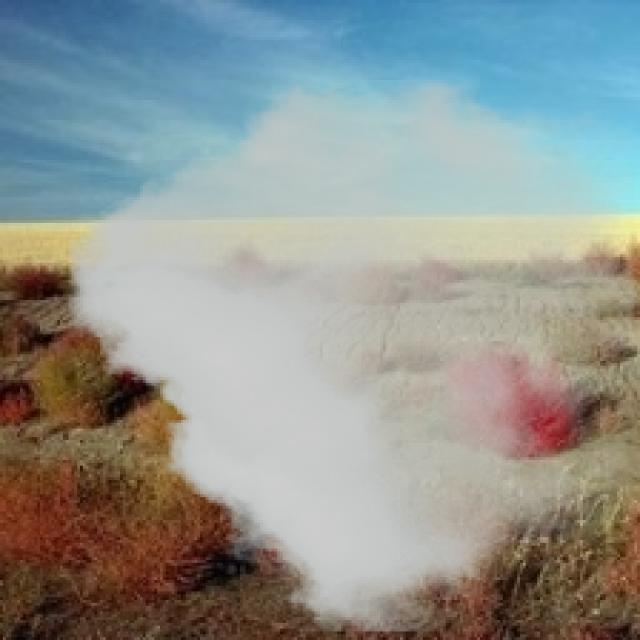smoke: (69, 77, 634, 632)
